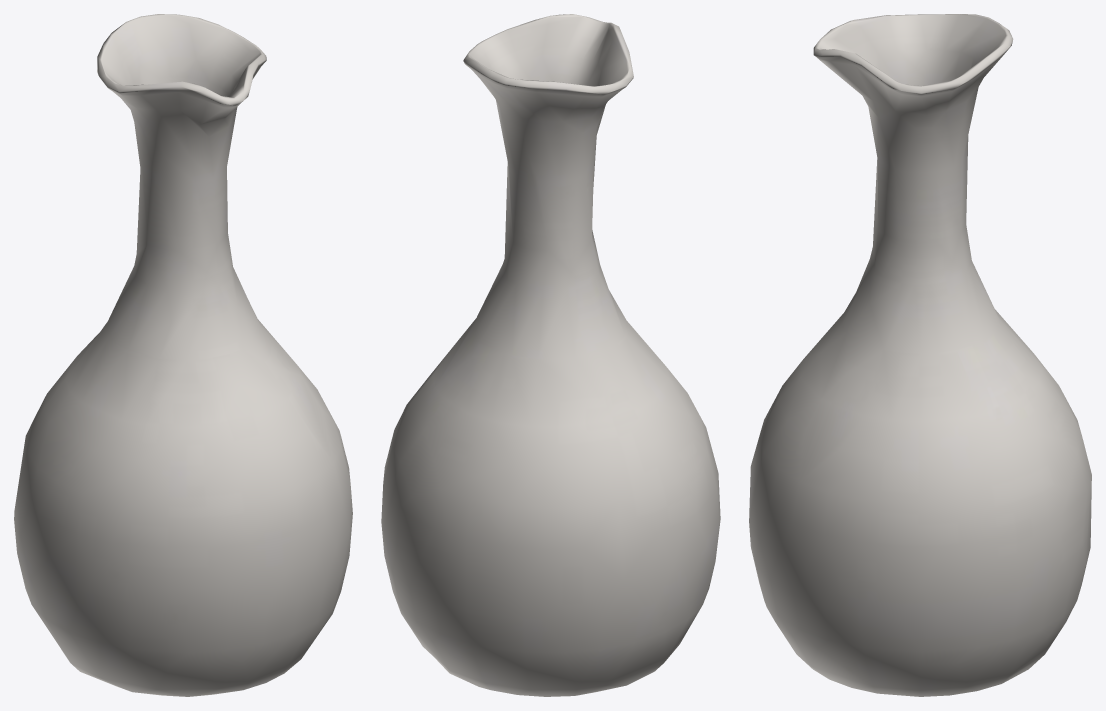
The model's file is ceramic_vase_01.glb.
3 renders of one model, left to right at view 1: azimuth 30°, elevation 25°; view 2: azimuth 150°, elevation 25°; view 3: azimuth 270°, elevation 25°, orthographic. The views are drawn at different scales.
Parts seen in each view (by area): view 1: body; view 2: body; view 3: body.
Part boxes in pixels (x1,y1,x2,y2): body: (14,14,352,696); body: (381,14,720,696); body: (749,14,1091,696).
Size of the model in its own units: 0.2029 by 0.4002 by 0.2018.
1 material, 1 textured.
